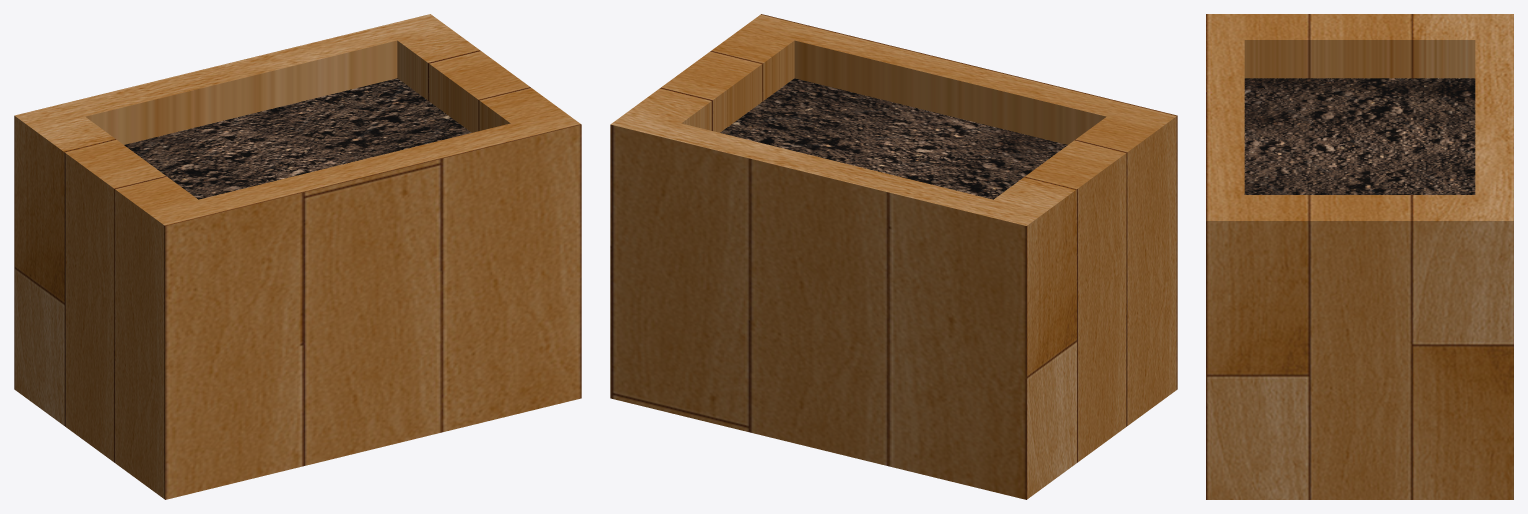
File: garden.obj
3 renders of one model, left to right at view 1: azimuth 30°, elevation 25°; view 2: azimuth 150°, elevation 25°; view 3: azimuth 270°, elevation 25°, orthographic.
Parts seen in each view (by area): view 1: Cube, Plane; view 2: Cube, Plane; view 3: Cube, Plane.
Part boxes in pixels (box(x1,y1,x2,y2)): Cube: box(14, 14, 581, 499); Plane: box(124, 78, 471, 199); Cube: box(610, 14, 1177, 499); Plane: box(720, 78, 1067, 199); Cube: box(1206, 14, 1513, 499); Plane: box(1244, 78, 1475, 194).
Bounding box in the file's own units: 5.17 × 3.25 × 3.25.
Materials: 2 (2 with a texture image).
